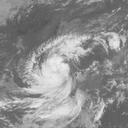cyclone: (23, 35, 76, 97)
